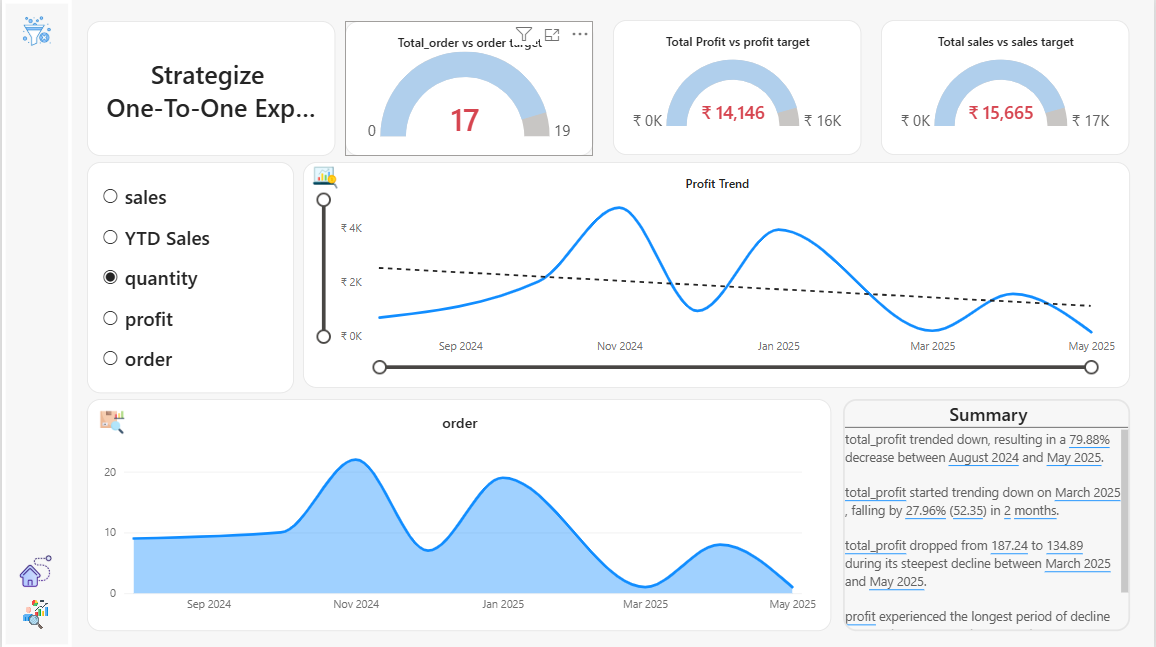

Layout of this report page (visuals, bound fields, positions):
{"tool":"powerbi","page":{"name":"Product","canvas":[1280,720],"ordinal":1},"visuals":[{"type":"shape","box":[0,0,77.5,720],"z":0},{"type":"image","title":"filter","box":[16.2,15,44,38],"z":1000},{"type":"image","title":"filter","box":[15.7,661.4,44.3,38.6],"z":3000},{"type":"card","fields":{"Values":["Min(Product_Dim.ProductName)"]},"box":[94.3,22.9,275.7,150],"z":4000},{"type":"gauge","title":"Total_order vs order target","fields":{"MaxValue":["_meeasures.order target"],"Y":["_meeasures.Total_order"]},"box":[381.4,22.9,275.7,150],"z":5000},{"type":"gauge","title":"Total Profit vs profit target","fields":{"MaxValue":["_meeasures.profit target"],"Y":["_meeasures.total_profit"]},"box":[679.1,22.2,275.6,150],"z":6000},{"type":"gauge","title":"Total sales vs sales target","fields":{"MaxValue":["_meeasures.sales target"],"Y":["_meeasures.total_sales"]},"box":[976.7,22.2,275.6,150],"z":7000},{"type":"lineChart","title":"Profit Trend","fields":{"Category":["Date_Dim.Date.Variation.Date Hierarchy.Year","Date_Dim.Date.Variation.Date Hierarchy.Quarter","Date_Dim.Date.Variation.Date Hierarchy.Month","Date_Dim.Date.Variation.Date Hierarchy.Day"],"Y":["_meeasures.total_profit"]},"box":[334.4,180,918.9,251.1],"z":8000},{"type":"areaChart","title":"order","fields":{"Category":["Date_Dim.Date.Variation.Date Hierarchy.Year","Date_Dim.Date.Variation.Date Hierarchy.Quarter","Date_Dim.Date.Variation.Date Hierarchy.Month","Date_Dim.Date.Variation.Date Hierarchy.Day"],"Y":["_meeasures.total_sales"]},"box":[94.4,443.3,826.7,257.8],"z":9000},{"type":"listSlicer","fields":{"Values":["Parameter.Parameter"]},"box":[94.3,180,230,257.1],"z":10000},{"type":"textbox","title":"Summary","box":[934.4,443.3,318.9,257.8],"z":11000},{"type":"image","title":"filter","box":[16,615,44,38],"z":12000},{"type":"image","box":[343.3,183.3,32.2,27.8],"z":13000},{"type":"image","box":[106.7,454.4,32.2,27.8],"z":14000}]}

Visuals, with their boxes on the page's 1280x720 design canvas (x1, y1, x2, y2). These are canvas units, not pixel positions in the 1156x647 screenshot, which may show the page scaled, cropped or inside an application window:
shape: {"x1": 0, "y1": 0, "x2": 78, "y2": 720}
"filter" image: {"x1": 16, "y1": 15, "x2": 60, "y2": 53}
"filter" image: {"x1": 16, "y1": 661, "x2": 60, "y2": 700}
card - Min(Product_Dim.ProductName): {"x1": 94, "y1": 23, "x2": 370, "y2": 173}
"Total_order vs order target" gauge: {"x1": 381, "y1": 23, "x2": 657, "y2": 173}
"Total Profit vs profit target" gauge: {"x1": 679, "y1": 22, "x2": 955, "y2": 172}
"Total sales vs sales target" gauge: {"x1": 977, "y1": 22, "x2": 1252, "y2": 172}
"Profit Trend" lineChart: {"x1": 334, "y1": 180, "x2": 1253, "y2": 431}
"order" areaChart: {"x1": 94, "y1": 443, "x2": 921, "y2": 701}
listSlicer - Parameter.Parameter: {"x1": 94, "y1": 180, "x2": 324, "y2": 437}
"Summary" textbox: {"x1": 934, "y1": 443, "x2": 1253, "y2": 701}
"filter" image: {"x1": 16, "y1": 615, "x2": 60, "y2": 653}
image: {"x1": 343, "y1": 183, "x2": 376, "y2": 211}
image: {"x1": 107, "y1": 454, "x2": 139, "y2": 482}
